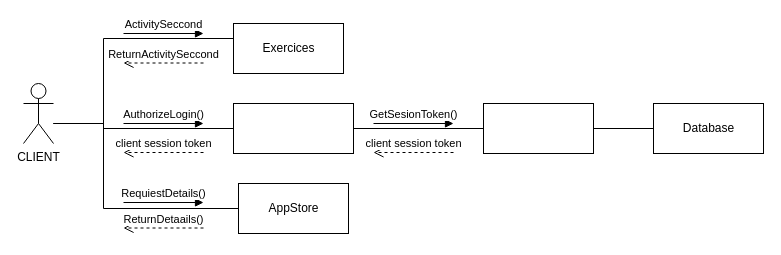
The diagram is 781 pixels wide and 255 high, and some of its shapes have lost their labels. The centre of each missing label's shape, as x and y in pixels:
Login Controller: the point at 538,128
Login Service: the point at 293,128
